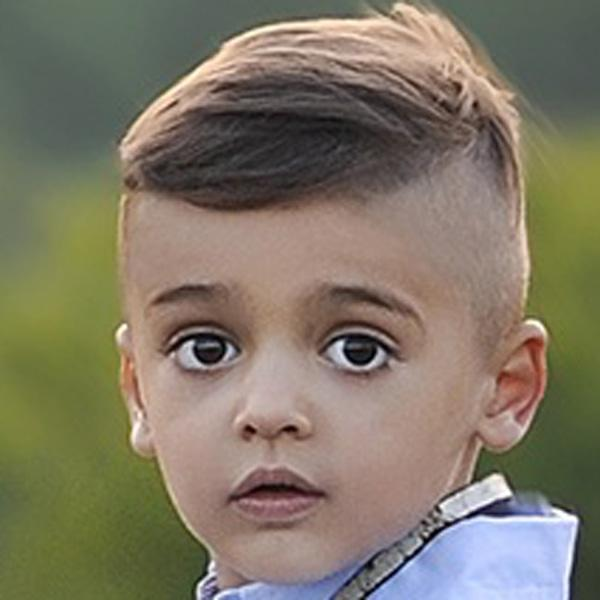Eyes: (305, 312, 401, 389), (155, 314, 245, 379)
